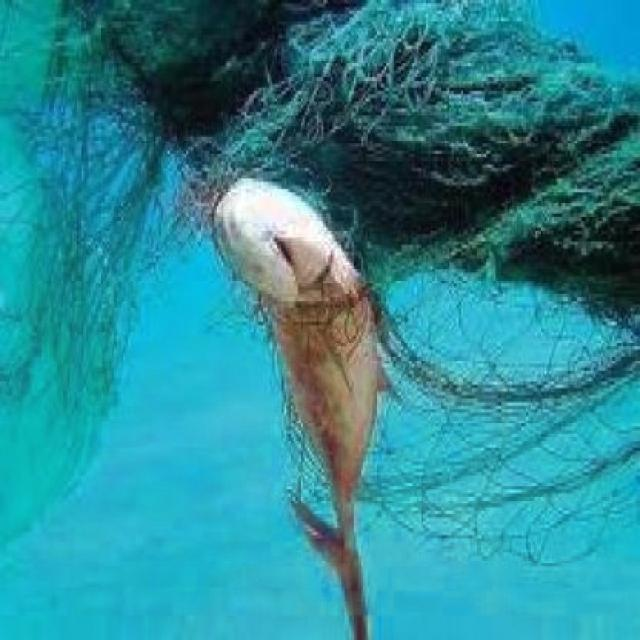net: (60, 3, 640, 291)
